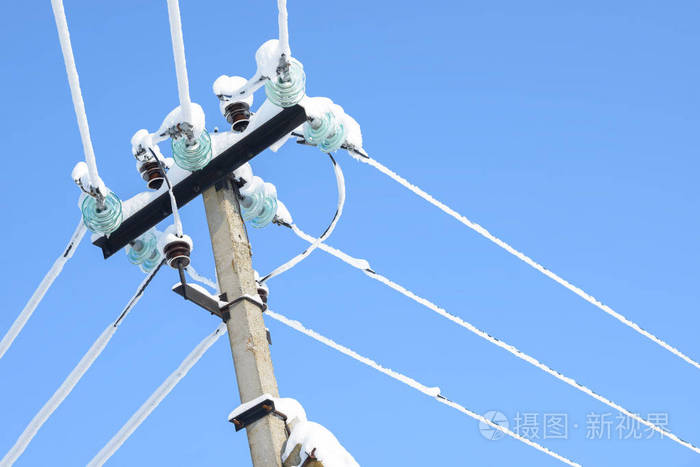insulator: (266, 59, 306, 107), (78, 191, 121, 234), (125, 233, 170, 274), (241, 183, 279, 230), (304, 112, 347, 153), (172, 128, 215, 169)
